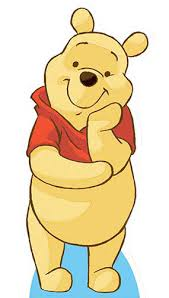Winnie: (34, 6, 150, 142)
